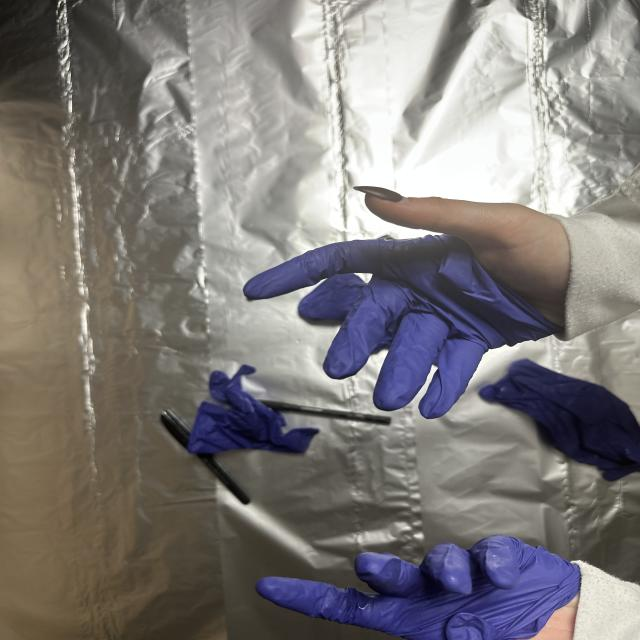glove_partial: (241, 182, 578, 422), (243, 537, 588, 639)
